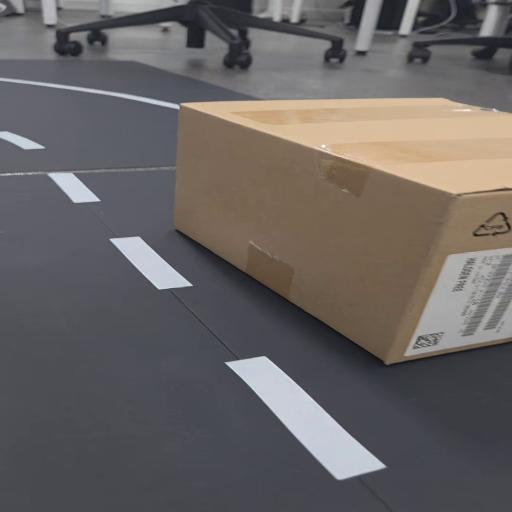Box: (156, 94, 512, 369)
